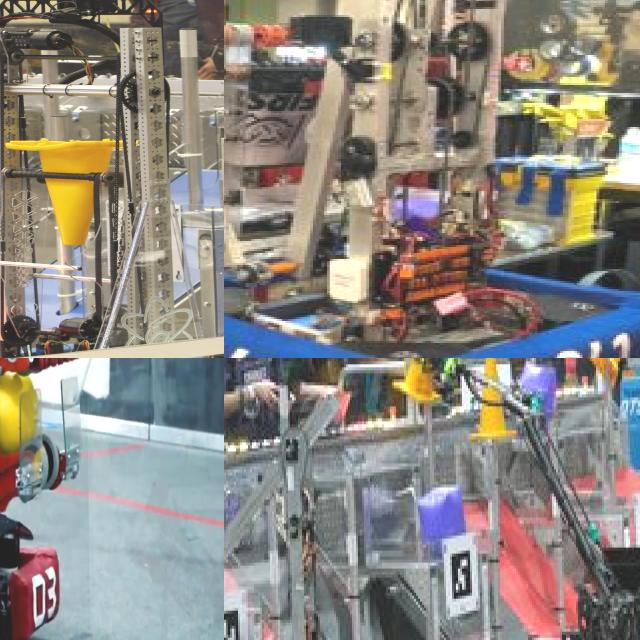FRC-Robots: (224, 0, 640, 358), (0, 7, 224, 358), (382, 358, 640, 640), (224, 371, 407, 640), (0, 358, 102, 640)
